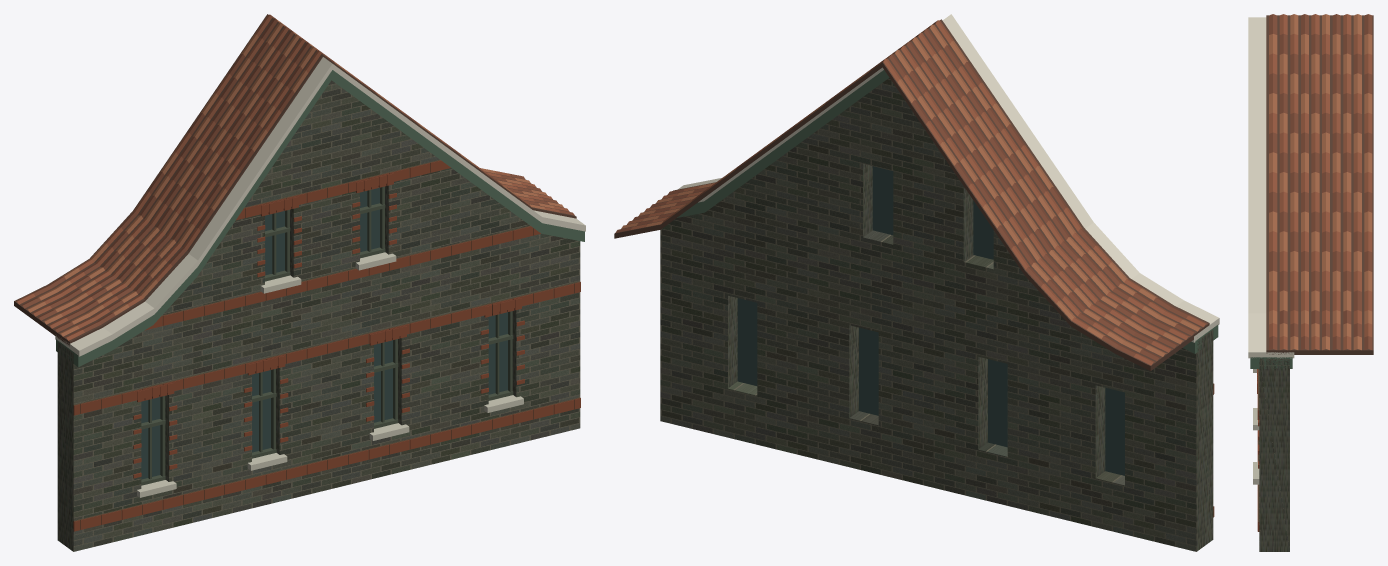
Rendered from changning-yuyuan-new-village-swept-gable-web.glb.
3 renders of one model, left to right at view 1: azimuth 30°, elevation 25°; view 2: azimuth 150°, elevation 25°; view 3: azimuth 270°, elevation 25°, orthographic. The views are drawn at different scales.
Visible parts, largest first — view 1: 愚园新村排屋灰砖山墙与弯折封檐; view 2: 愚园新村排屋灰砖山墙与弯折封檐; view 3: 愚园新村排屋灰砖山墙与弯折封檐.
Part boxes in pixels (<box>): 愚园新村排屋灰砖山墙与弯折封檐: <box>14,14,585,551</box>; 愚园新村排屋灰砖山墙与弯折封檐: <box>614,14,1219,551</box>; 愚园新村排屋灰砖山墙与弯折封檐: <box>1248,14,1373,551</box>.
Bounding box in the file's own units: 6.4 × 5.24 × 1.42.
Materials: 12 (1 with a texture image).
